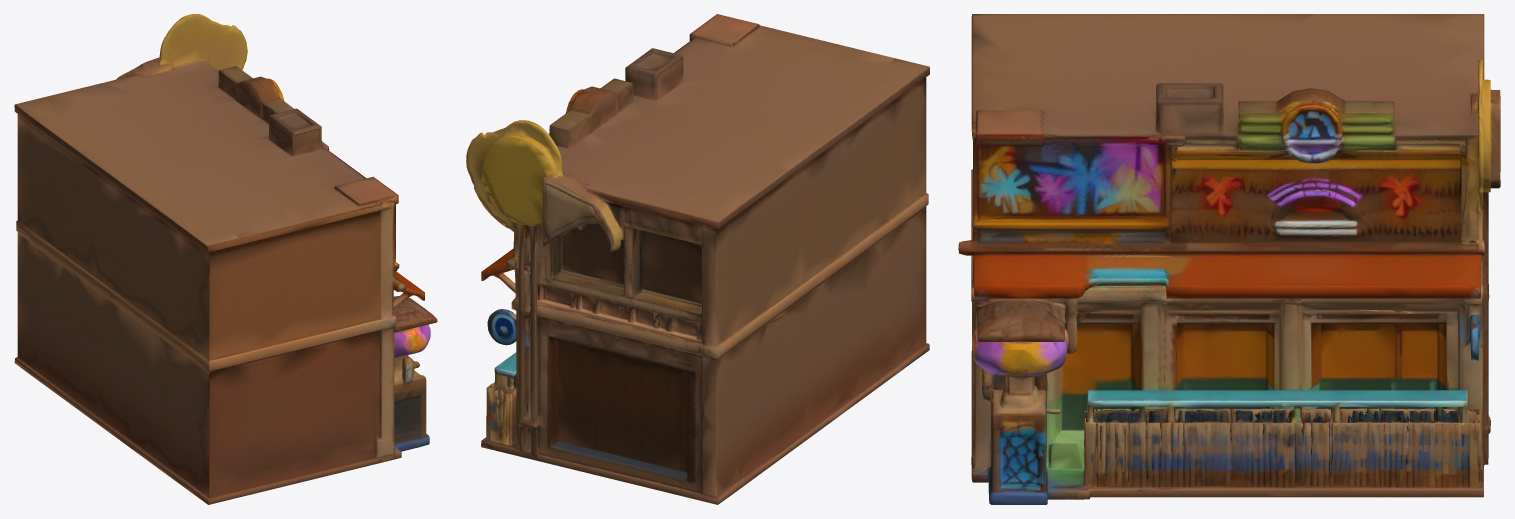
The model's file is waikiki.glb.
The picture shows the model from 3 angles, left to right: view 1: azimuth 30°, elevation 25°; view 2: azimuth 150°, elevation 25°; view 3: azimuth 270°, elevation 25°; orthographic projection. The views are drawn at different scales.
Visible parts, largest first — view 1: tripo_node_7914c8ff-0ffd-468b-89a6-ed16f43b5611; view 2: tripo_node_7914c8ff-0ffd-468b-89a6-ed16f43b5611; view 3: tripo_node_7914c8ff-0ffd-468b-89a6-ed16f43b5611.
Part boxes in pixels (bbox=[...]): tripo_node_7914c8ff-0ffd-468b-89a6-ed16f43b5611: bbox=[14, 14, 437, 504]; tripo_node_7914c8ff-0ffd-468b-89a6-ed16f43b5611: bbox=[466, 14, 929, 504]; tripo_node_7914c8ff-0ffd-468b-89a6-ed16f43b5611: bbox=[958, 14, 1500, 504].
Size of the model in its own units: 0.6552 by 0.8285 by 0.9999.
Materials: 1 (1 with a texture image).
